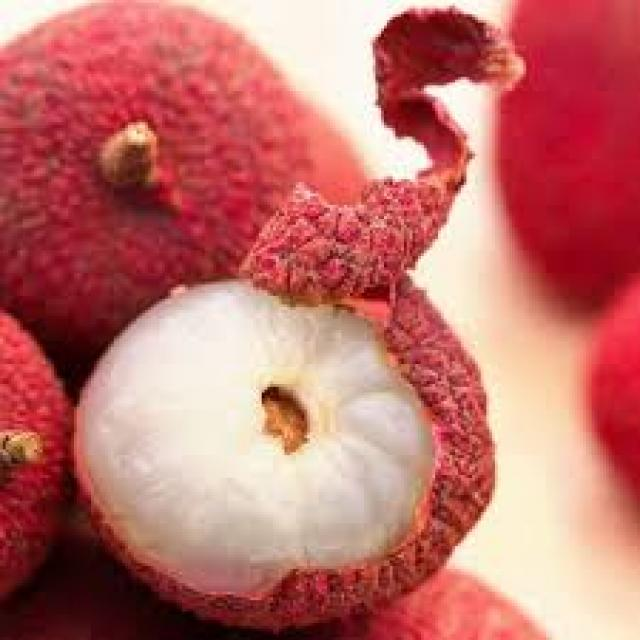organic waste: (66, 3, 520, 637), (0, 0, 310, 387), (71, 279, 435, 597), (498, 3, 637, 299), (0, 504, 233, 637), (0, 304, 71, 609), (268, 569, 546, 637), (583, 279, 637, 486), (290, 94, 361, 205)
